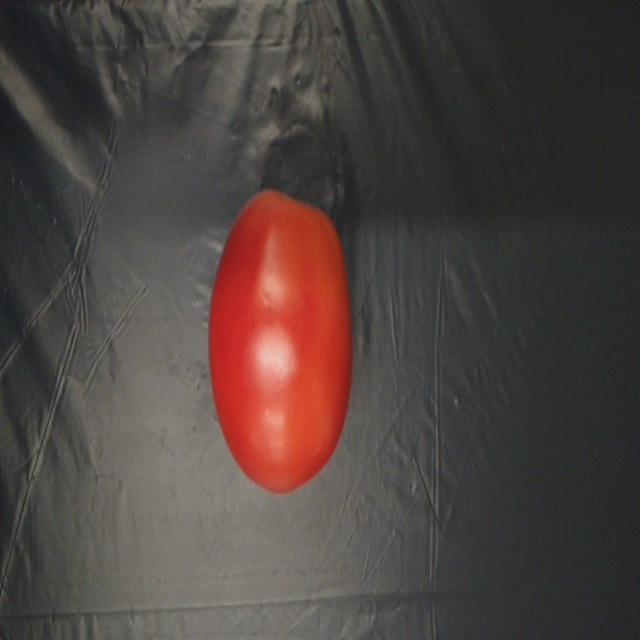kirmizi: (199, 164, 367, 491)
